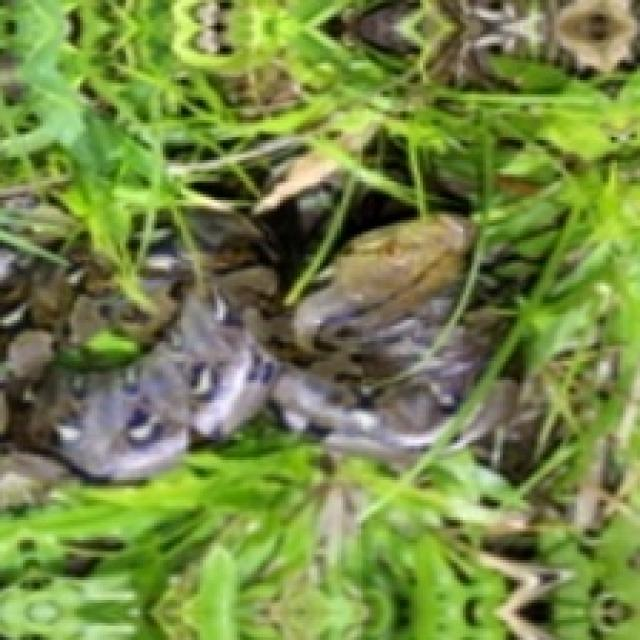reticulated python: (0, 214, 494, 480)
